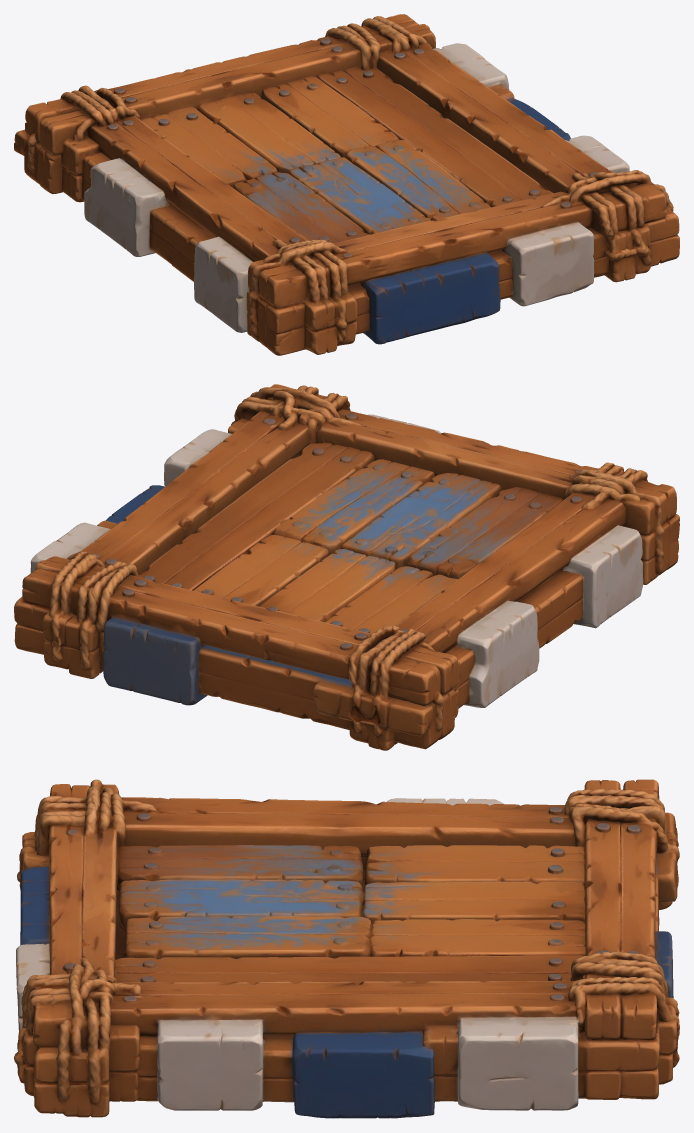
File: BoatLevel01.fbx
3 renders of one model, top to bottom at view 1: azimuth 30°, elevation 25°; view 2: azimuth 150°, elevation 25°; view 3: azimuth 270°, elevation 25°, orthographic. The views are drawn at different scales.
Visible parts, largest first — view 1: tripo_node_36a8d5cc; view 2: tripo_node_36a8d5cc; view 3: tripo_node_36a8d5cc.
Boxes of the visible parts, x1,y1,x2,y2 form: tripo_node_36a8d5cc: (14,14,679,355); tripo_node_36a8d5cc: (14,384,679,750); tripo_node_36a8d5cc: (14,779,679,1118).
Bounding box in the file's own units: 0.9039 × 0.1888 × 1.
